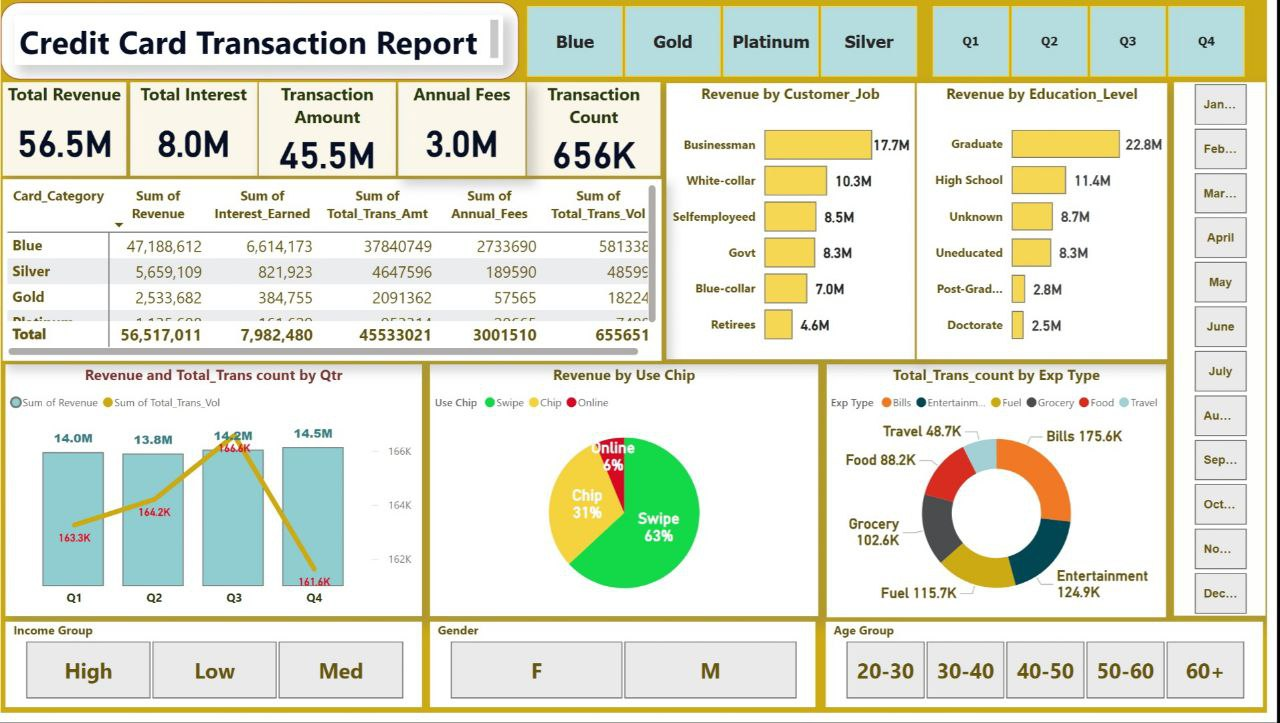

Layout of this report page (visuals, bound fields, positions):
{"tool":"powerbi","page":{"name":"Credit Card Transaction Report","canvas":[1280,720],"ordinal":0},"visuals":[{"type":"shape","box":[0,2.3,524.1,78.6],"z":0},{"type":"textbox","box":[13.5,14.6,493.9,50.6],"z":1000},{"type":"card","title":"Total Revenue","fields":{"Values":["Sum(credit card.Revenue)"]},"box":[2.2,83.2,124.9,94.5],"z":2000},{"type":"card","title":"Total Interest","fields":{"Values":["Sum(credit card.Interest_Earned)"]},"box":[130.5,83.2,128.2,94.5],"z":3000},{"type":"card","title":"Transaction Amount","fields":{"Values":["Sum(credit card.Total_Trans_Amt)"]},"box":[261,83.2,138.4,94.5],"z":4000},{"type":"card","title":"Transaction Count","fields":{"Values":["Sum(credit card.Total_Trans_Vol)"]},"box":[532.1,83.2,135,94.5],"z":5000},{"type":"lineStackedColumnComboChart","title":" Revenue and Total_Trans count by Qtr","fields":{"Category":["credit card.Qtr"],"Y":["Sum(credit card.Revenue)"],"Y2":["Sum(credit card.Total_Trans_Vol)"]},"box":[4.5,367.9,420.8,254.2],"z":6000},{"type":"pieChart","title":"Revenue by Use Chip","fields":{"Category":["credit card.Use Chip"],"Y":["Sum(credit card.Revenue)"]},"box":[434.2,367.9,392.6,254.2],"z":7000},{"type":"donutChart","title":" Total_Trans_count by Exp Type","fields":{"Category":["credit card.Exp Type"],"Y":["Sum(credit card.Total_Trans_Vol)"]},"box":[834.8,367.9,343.1,255.4],"z":8000},{"type":"clusteredBarChart","title":" Revenue by Customer_Job","fields":{"Category":["customer.Customer_Job"],"Y":["Sum(credit card.Revenue)"]},"box":[672.8,84.4,250.9,279],"z":9000},{"type":"clusteredBarChart","title":" Revenue by Education_Level","fields":{"Category":["customer.Education_Level"],"Y":["Sum(credit card.Revenue)"]},"box":[925.9,84.4,253.1,279],"z":10000},{"type":"pivotTable","fields":{"Rows":["credit card.Card_Category"],"Values":["Sum(credit card.Revenue)","Sum(credit card.Interest_Earned)","Sum(credit card.Total_Trans_Amt)","Sum(credit card.Annual_Fees)","Sum(credit card.Total_Trans_Vol)"]},"box":[2.2,181.1,666,183.4],"z":11000},{"type":"card","title":" Annual Fees","fields":{"Values":["Sum(credit card.Annual_Fees)"]},"box":[401.6,83.2,128.2,94.5],"z":12000},{"type":"slicer","fields":{"Values":["credit card.Card_Category"]},"box":[511,4,434.2,75.4],"z":13000},{"type":"slicer","fields":{"Values":["credit card.Qtr"]},"box":[921,4,355.5,75.4],"z":14000},{"type":"slicer","fields":{"Values":["credit card.Week_Start_Date.Variation.Date Hierarchy.Month"]},"box":[1185.8,83.2,92.2,538.9],"z":15000},{"type":"slicer","fields":{"Values":["customer.Income Group"]},"box":[4.5,627.8,420.8,86.6],"z":16000},{"type":"slicer","fields":{"Values":["customer.Age Group"]},"box":[833.6,627.8,442.1,86.6],"z":17000},{"type":"slicer","fields":{"Values":["customer.Gender"]},"box":[434.2,627.8,389.2,86.6],"z":18000}]}

Visuals, with their boxes in screenshot pixels (x1, y1, x2, y2), scaled from the page's 1280x720 canvas onto the 1280x723 screenshot:
shape: {"left": 0, "top": 2, "right": 524, "bottom": 81}
textbox: {"left": 14, "top": 15, "right": 507, "bottom": 65}
"Total Revenue" card: {"left": 2, "top": 84, "right": 127, "bottom": 178}
"Total Interest" card: {"left": 130, "top": 84, "right": 259, "bottom": 178}
"Transaction Amount" card: {"left": 261, "top": 84, "right": 399, "bottom": 178}
"Transaction Count" card: {"left": 532, "top": 84, "right": 667, "bottom": 178}
" Revenue and Total_Trans count by Qtr" lineStackedColumnComboChart: {"left": 4, "top": 369, "right": 425, "bottom": 625}
"Revenue by Use Chip" pieChart: {"left": 434, "top": 369, "right": 827, "bottom": 625}
" Total_Trans_count by Exp Type" donutChart: {"left": 835, "top": 369, "right": 1178, "bottom": 626}
" Revenue by Customer_Job" clusteredBarChart: {"left": 673, "top": 85, "right": 924, "bottom": 365}
" Revenue by Education_Level" clusteredBarChart: {"left": 926, "top": 85, "right": 1179, "bottom": 365}
pivotTable - credit card.Card_Category x Sum(credit card.Revenue): {"left": 2, "top": 182, "right": 668, "bottom": 366}
" Annual Fees" card: {"left": 402, "top": 84, "right": 530, "bottom": 178}
slicer - credit card.Card_Category: {"left": 511, "top": 4, "right": 945, "bottom": 80}
slicer - credit card.Qtr: {"left": 921, "top": 4, "right": 1276, "bottom": 80}
slicer - credit card.Week_Start_Date.Variation.Date Hierarchy.Month: {"left": 1186, "top": 84, "right": 1278, "bottom": 625}
slicer - customer.Income Group: {"left": 4, "top": 630, "right": 425, "bottom": 717}
slicer - customer.Age Group: {"left": 834, "top": 630, "right": 1276, "bottom": 717}
slicer - customer.Gender: {"left": 434, "top": 630, "right": 823, "bottom": 717}
